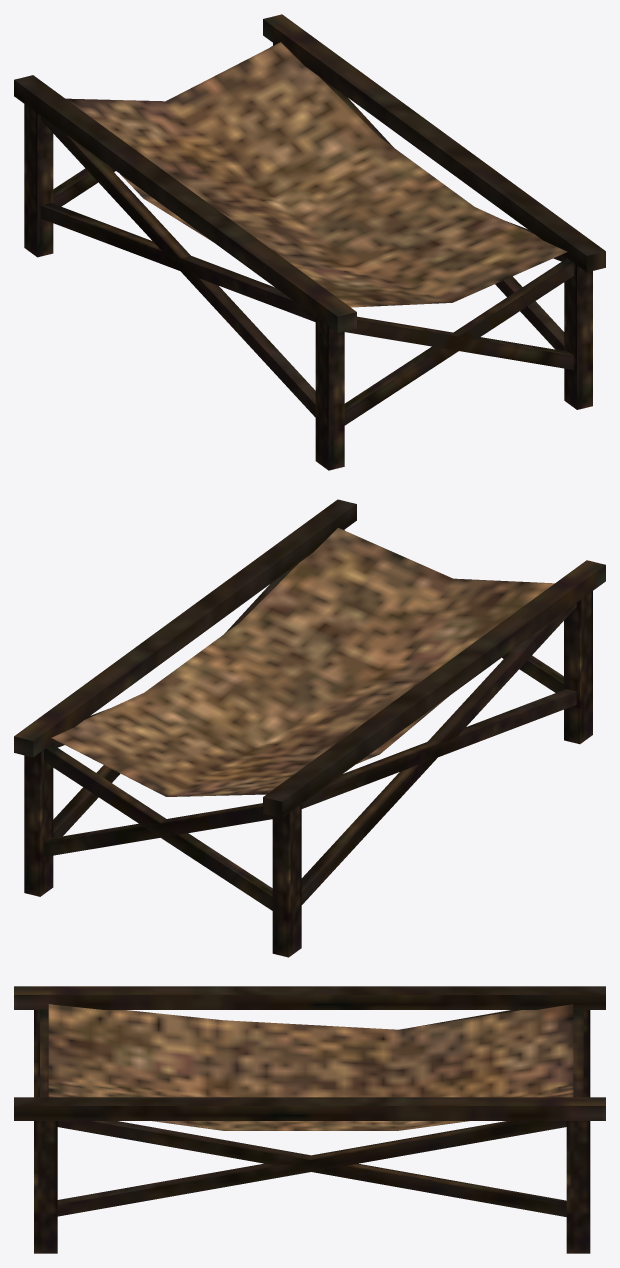
File: general_obj_woodbed_01.fbx
The picture shows the model from 3 angles, top to bottom: view 1: azimuth 30°, elevation 25°; view 2: azimuth 150°, elevation 25°; view 3: azimuth 270°, elevation 25°; orthographic projection. The views are drawn at different scales.
Visible parts, largest first — view 1: Object25; view 2: Object25; view 3: Object25.
Part boxes in pixels (bbox=[...]): Object25: bbox=[14, 14, 605, 470]; Object25: bbox=[14, 499, 605, 957]; Object25: bbox=[14, 986, 605, 1253].
Size of the model in its own units: 1.22 by 0.7064 by 2.55.
